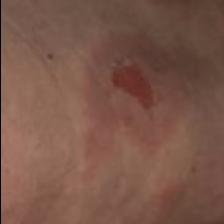DA: (33, 0, 224, 223)
